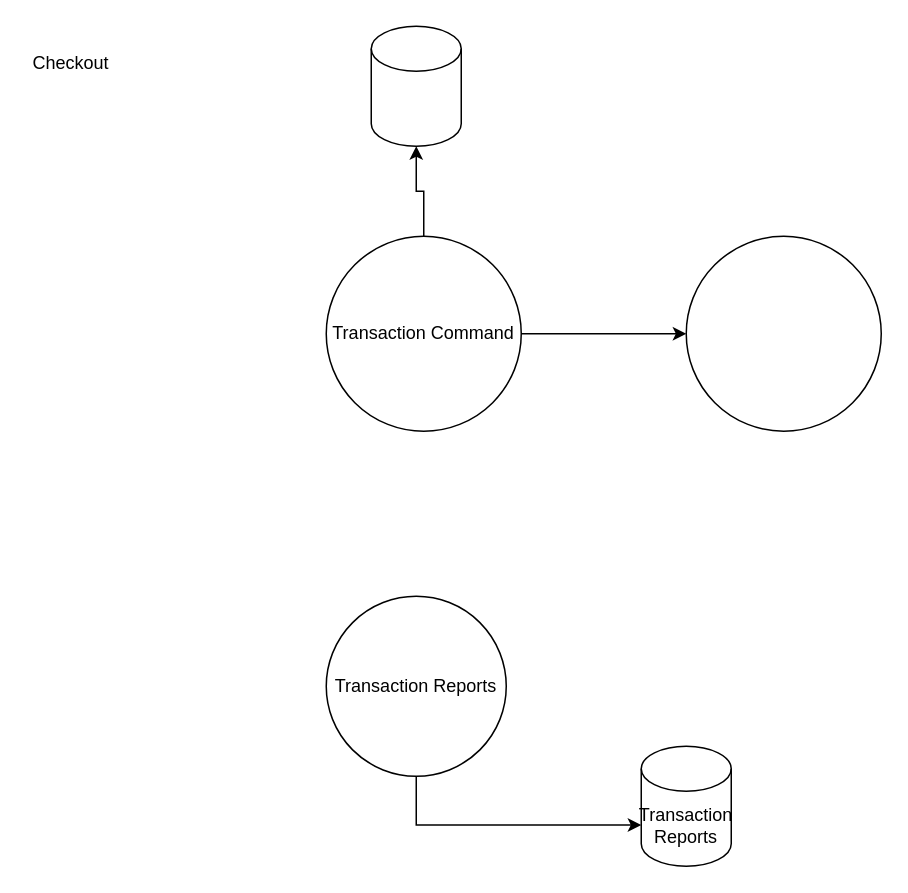
Image size: 908x893. Some labels were removed from this diagram. Here are the shapes that lost their labels. From the top down, the box of each, then its label:
(370, 25, 461, 146): Transaction Events
(685, 235, 881, 431): Credit Card Checker
